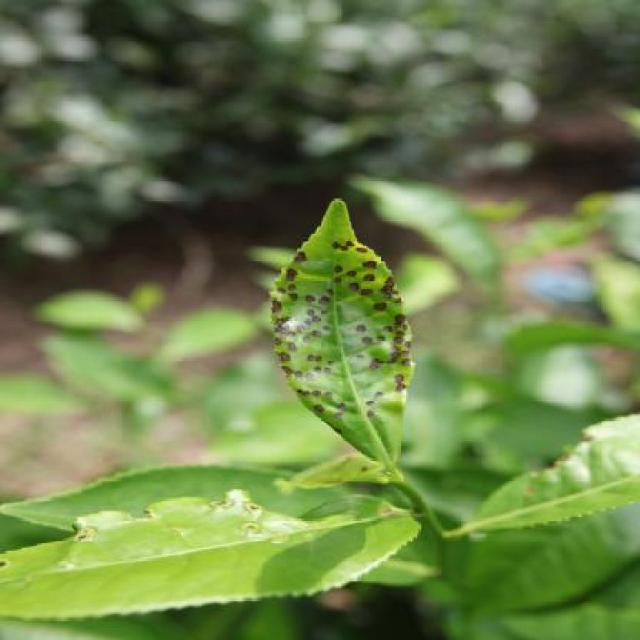Tea Mosquito bug infested leaf: (254, 196, 428, 482)
